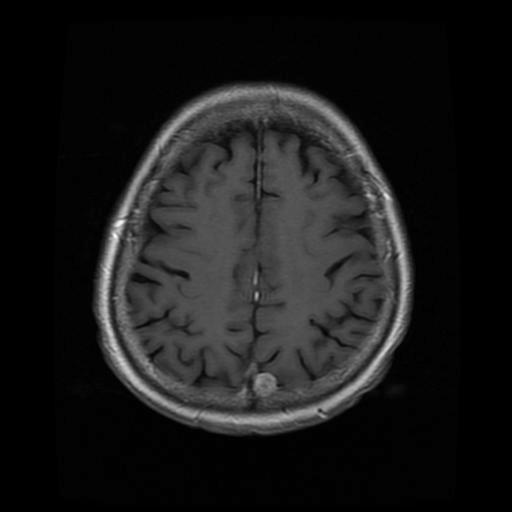Tumour-Meningioma: (236, 371, 290, 404)
